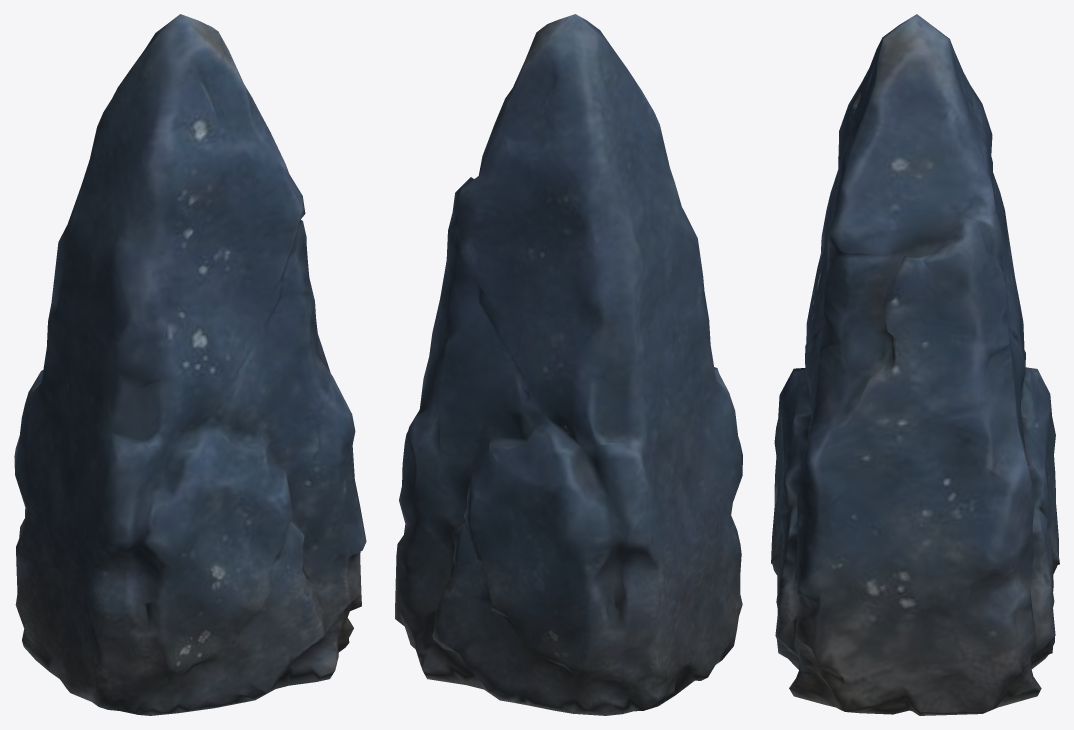
File: bluestone.glb
The picture shows the model from 3 angles, left to right: view 1: azimuth 30°, elevation 25°; view 2: azimuth 150°, elevation 25°; view 3: azimuth 270°, elevation 25°; orthographic projection.
Visible parts, largest first — view 1: tripo_node_b6a87169-9f74-4990-a0b6-ca219efd5608; view 2: tripo_node_b6a87169-9f74-4990-a0b6-ca219efd5608; view 3: tripo_node_b6a87169-9f74-4990-a0b6-ca219efd5608.
Boxes of the visible parts, x1,y1,x2,y2 form: tripo_node_b6a87169-9f74-4990-a0b6-ca219efd5608: (14,14,366,715); tripo_node_b6a87169-9f74-4990-a0b6-ca219efd5608: (395,14,742,715); tripo_node_b6a87169-9f74-4990-a0b6-ca219efd5608: (771,14,1059,715).
Size of the model in its own units: 0.4163 by 0.9821 by 0.402.
Materials: 1 (1 with a texture image).
